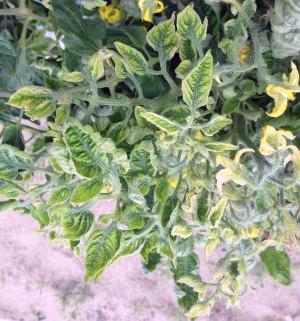Tomato leaf mosaic virus: (80, 223, 123, 283), (180, 50, 215, 110), (64, 126, 102, 165), (62, 208, 93, 240), (70, 178, 107, 202)
